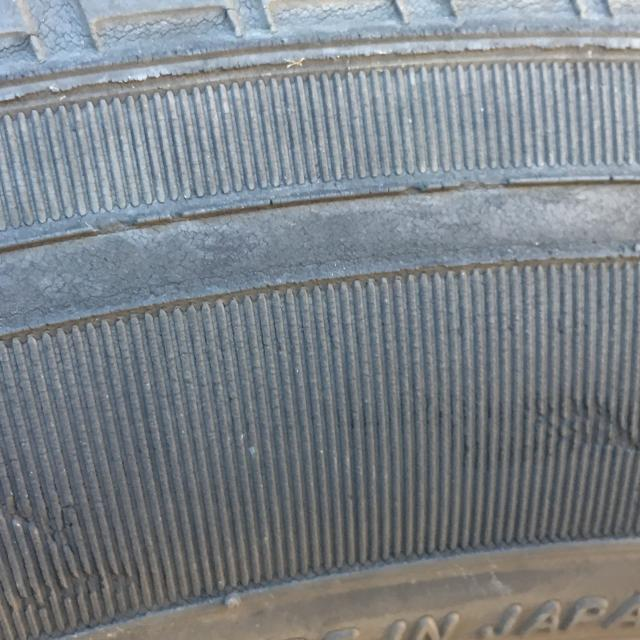Cracks: (0, 1, 640, 96)
